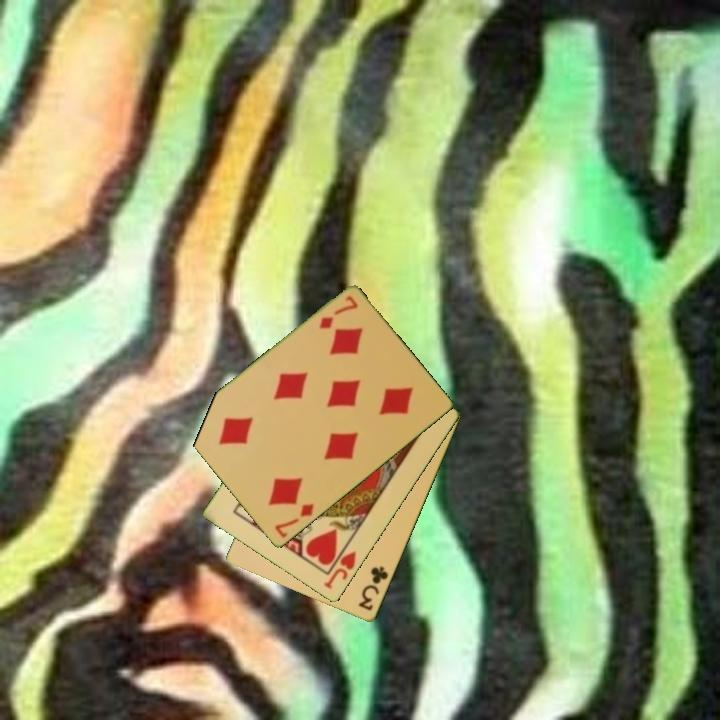3c: (355, 563, 391, 614)
7d: (271, 500, 317, 541), (315, 292, 361, 332)
Jh: (320, 547, 359, 592)
